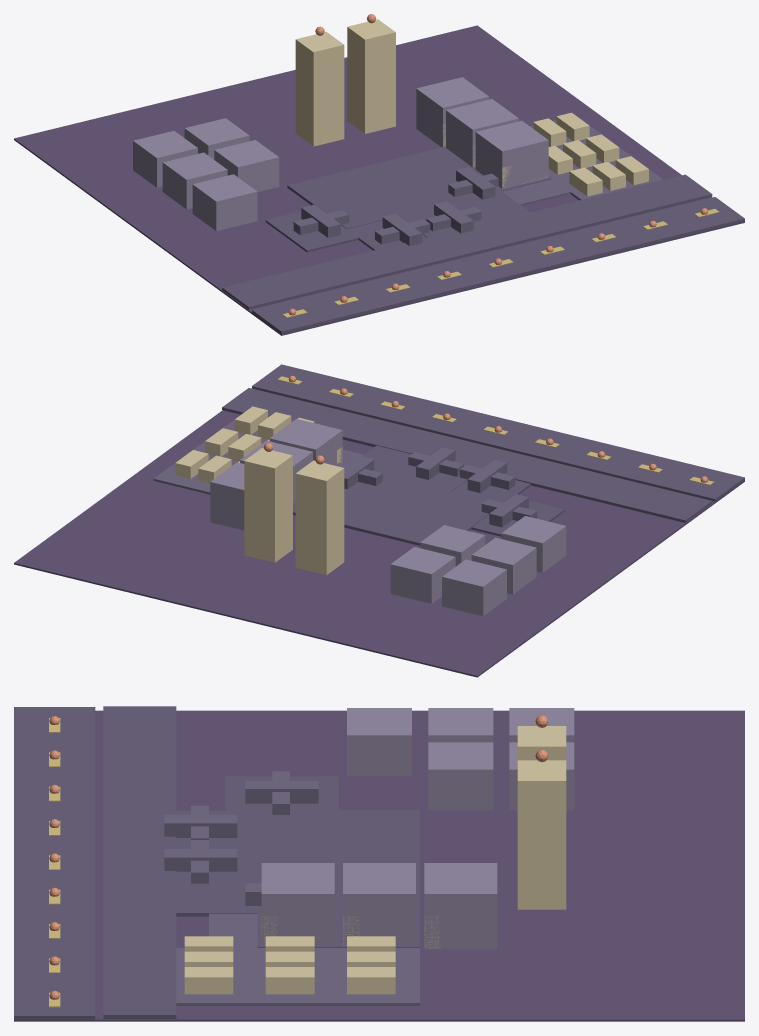
File: stage_23.glb
The picture shows the model from 3 angles, top to bottom: view 1: azimuth 30°, elevation 25°; view 2: azimuth 150°, elevation 25°; view 3: azimuth 270°, elevation 25°; orthographic projection. The views are drawn at different scales.
Visible parts, largest first — view 1: geometry_0; view 2: geometry_0; view 3: geometry_0.
Part boxes in pixels (x1=…): geometry_0: x1=14, y1=14, x2=744, y2=335; geometry_0: x1=14, y1=364, x2=744, y2=677; geometry_0: x1=14, y1=706, x2=744, y2=1021.
Bounding box in the file's own units: 9 × 2.06 × 9.
